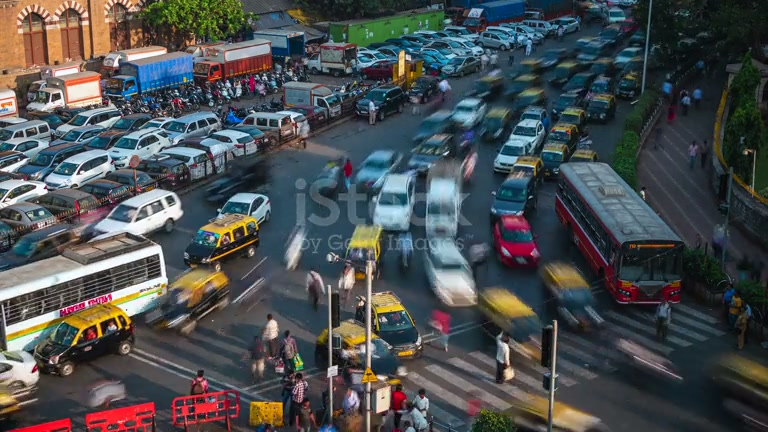bus: (0, 228, 170, 349), (554, 160, 686, 307), (192, 41, 274, 87), (423, 157, 463, 241)
car: (28, 303, 135, 376), (143, 265, 232, 336), (89, 188, 184, 241), (708, 348, 768, 431), (540, 260, 605, 334), (182, 212, 261, 268), (421, 236, 478, 308), (0, 221, 76, 273), (369, 290, 424, 360), (368, 168, 420, 232), (41, 148, 114, 191), (77, 168, 158, 205), (492, 212, 542, 271), (353, 149, 402, 197), (0, 350, 41, 405), (109, 132, 164, 169), (541, 125, 580, 175), (218, 191, 272, 227), (491, 175, 536, 216), (355, 86, 406, 121), (209, 128, 260, 158)
pedestrian: (391, 383, 408, 431), (306, 270, 325, 310), (263, 314, 280, 358), (655, 301, 671, 342), (189, 369, 209, 395), (687, 140, 700, 170)
